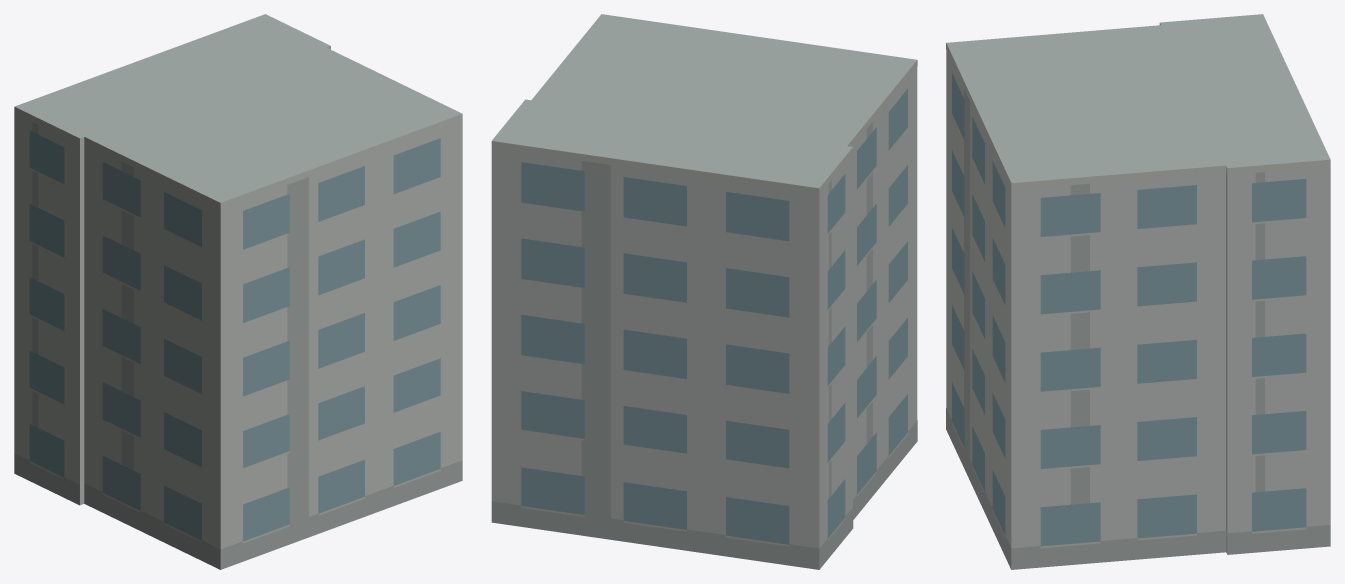
File: survey-upis-32610263.glb
3 views of the same model, side by side, from view 1: azimuth 30°, elevation 25°; view 2: azimuth 150°, elevation 25°; view 3: azimuth 270°, elevation 25° (orthographic). The views are drawn at different scales.
Parts seen in each view (by area): view 1: survey-upis-32610263.tmp; view 2: survey-upis-32610263.tmp; view 3: survey-upis-32610263.tmp.
Part boxes in pixels (x1,y1,x2,y2): survey-upis-32610263.tmp: (14, 14, 462, 569); survey-upis-32610263.tmp: (491, 14, 917, 569); survey-upis-32610263.tmp: (946, 14, 1330, 569).
Bounding box in the file's own units: 12.67 × 13.5 × 12.17.
